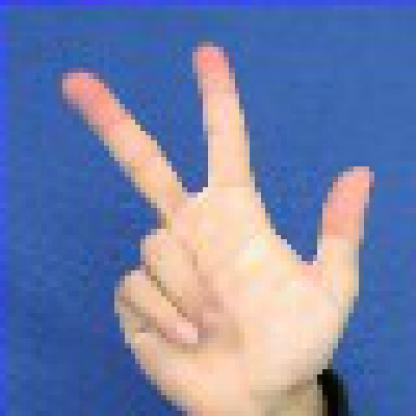eight: (45, 24, 388, 415)
